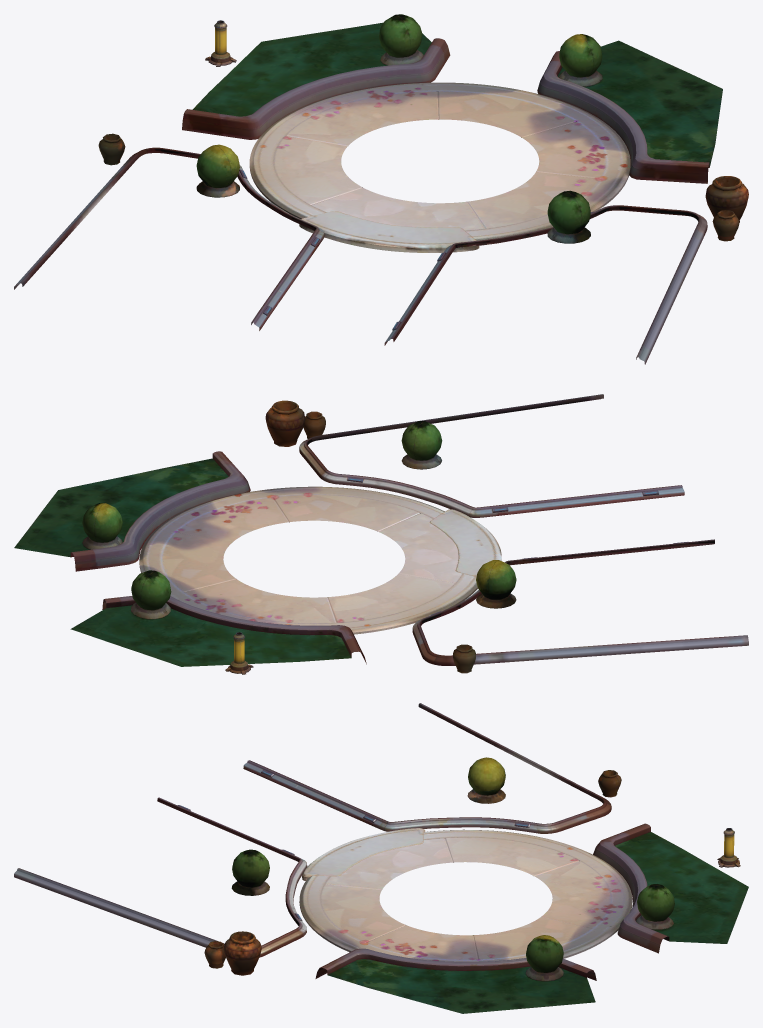
The model's file is pref_sm_garden_props_vray_006_lv1.fbx.
3 views of the same model, one above another, from view 1: azimuth 30°, elevation 25°; view 2: azimuth 150°, elevation 25°; view 3: azimuth 270°, elevation 25° (orthographic). The views are drawn at different scales.
Visible parts, largest first — view 1: sm_garden_props_vray_006_lv1; view 2: sm_garden_props_vray_006_lv1; view 3: sm_garden_props_vray_006_lv1.
Boxes of the visible parts, <box> form: sm_garden_props_vray_006_lv1: <box>14,14,748,364</box>; sm_garden_props_vray_006_lv1: <box>14,394,748,674</box>; sm_garden_props_vray_006_lv1: <box>14,703,748,1013</box>.
Size of the model in its own units: 25.42 by 2.13 by 25.34.
